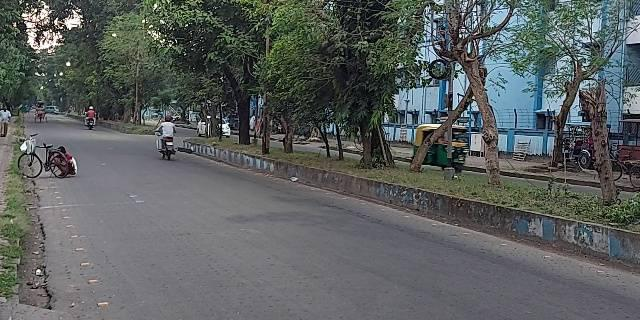Cycle: (12, 143, 68, 179)
Motorbike: (151, 116, 180, 162)
